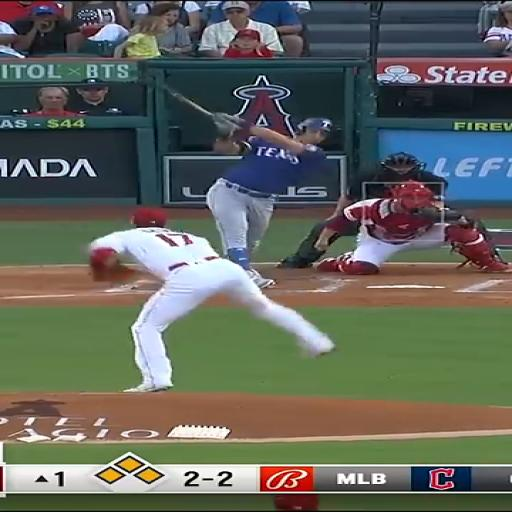bat: (161, 84, 214, 117)
